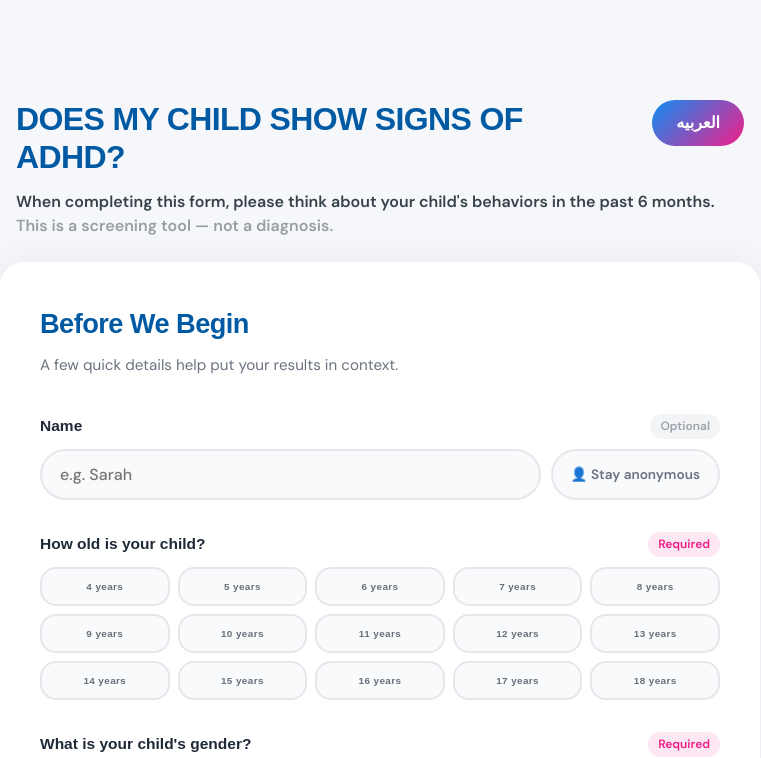
Scenario: Quiz — Question screen navigation › Next button enables after selecting an answer
Click the button "8 years". click: click(655, 586)
box: [590, 567, 720, 606]
(page scrolled)
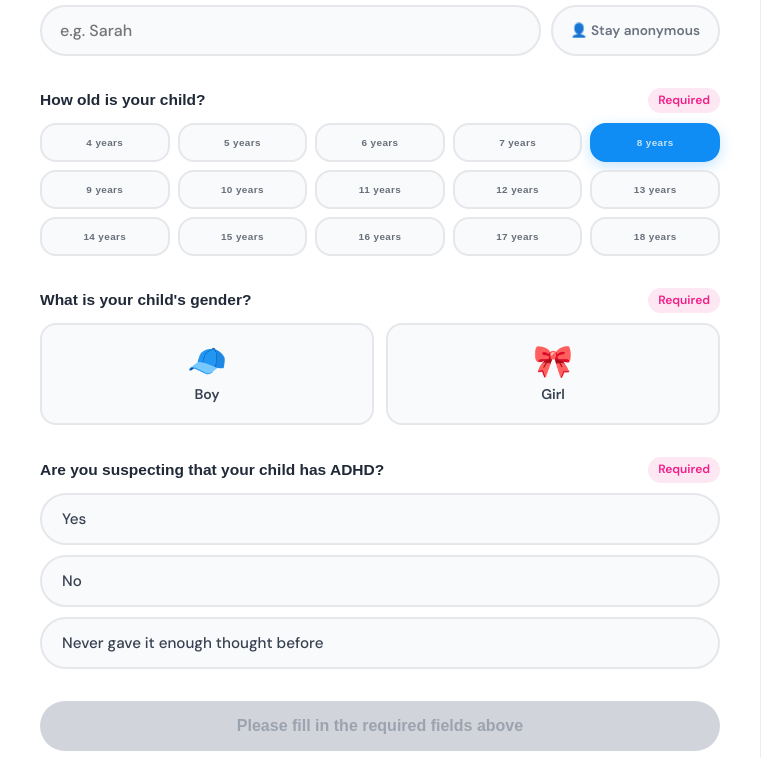
Click the button "🧢 Boy". click: click(207, 374)
box: [40, 323, 374, 426]
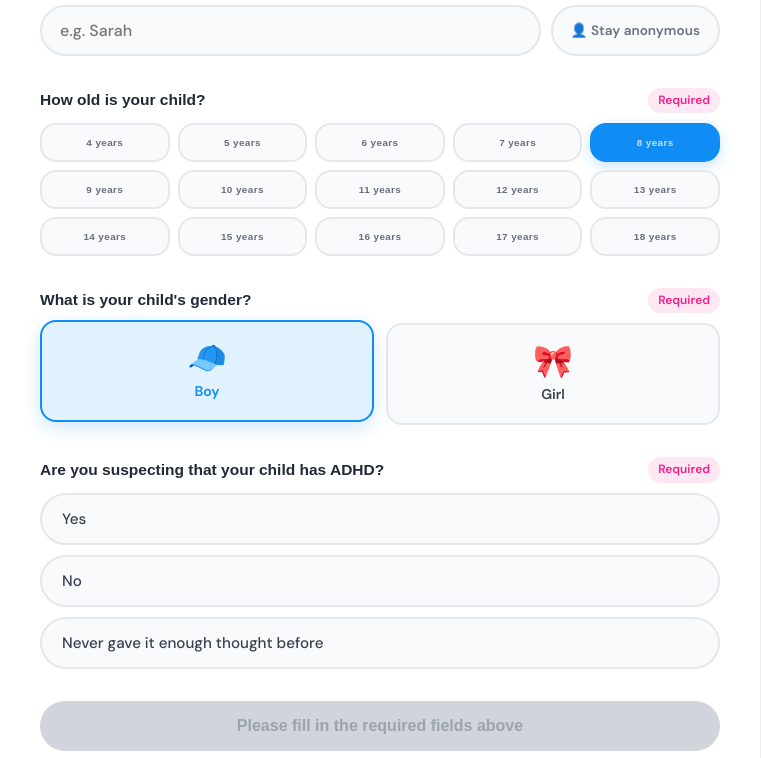
Click the button "Yes". click: click(74, 519)
box: [40, 493, 720, 545]
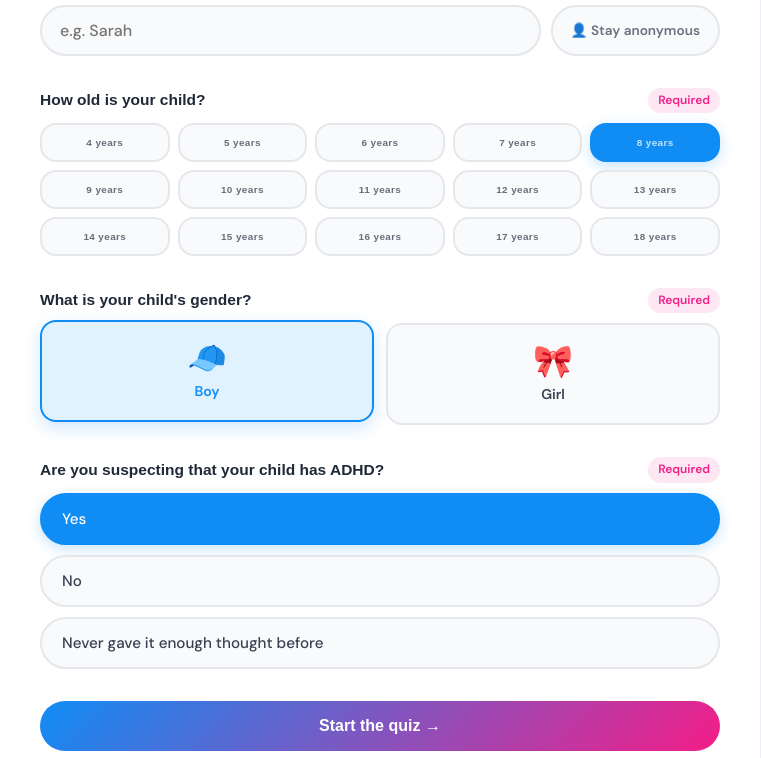
Click the button "Start the quiz →". click: click(380, 726)
box: [40, 701, 720, 751]
(page scrolled)
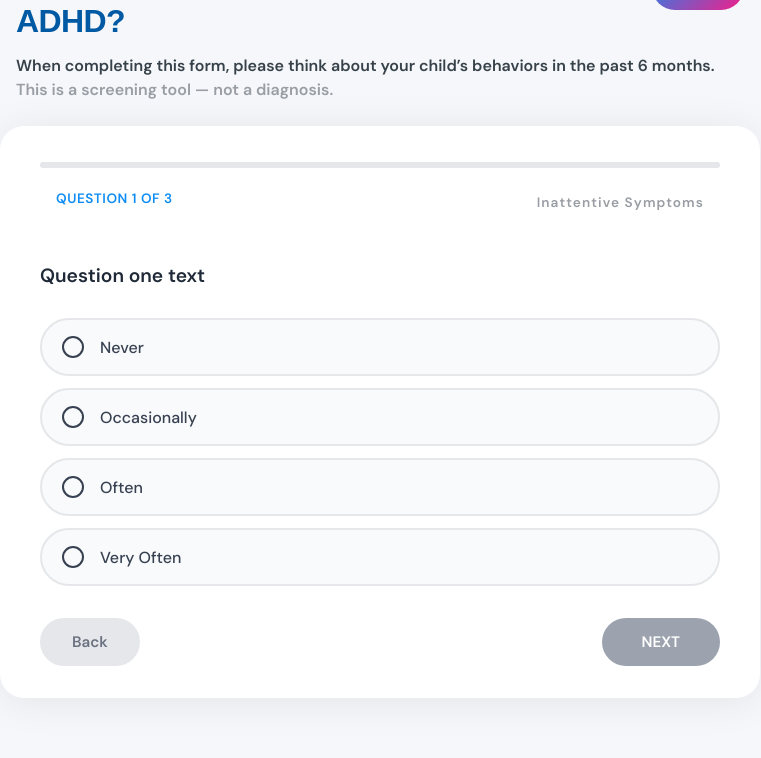
Click the button "Never". click: click(122, 347)
box: [40, 318, 720, 376]
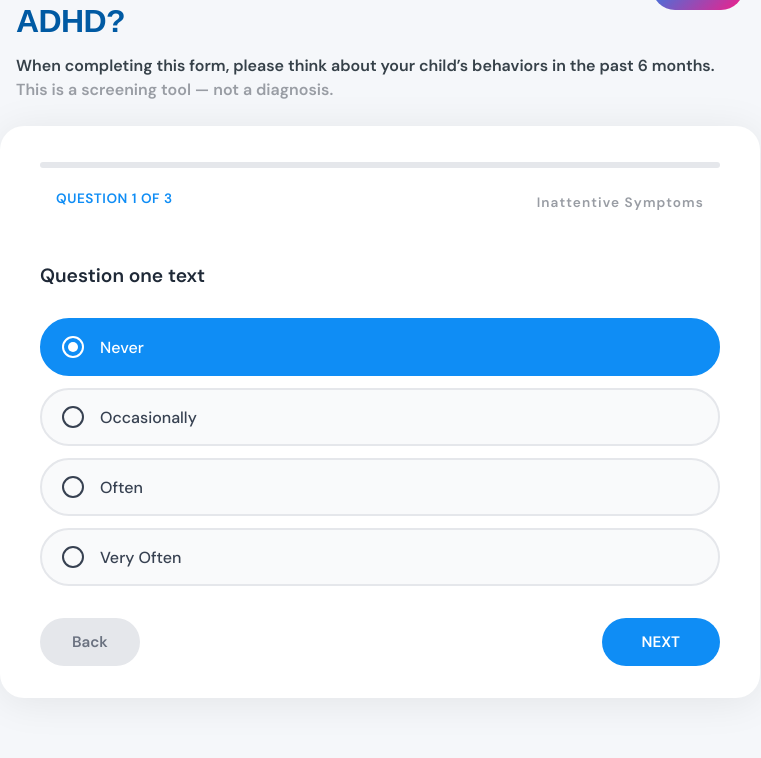
Now the button "NEXT" is enabled, box [602, 618, 720, 666]
